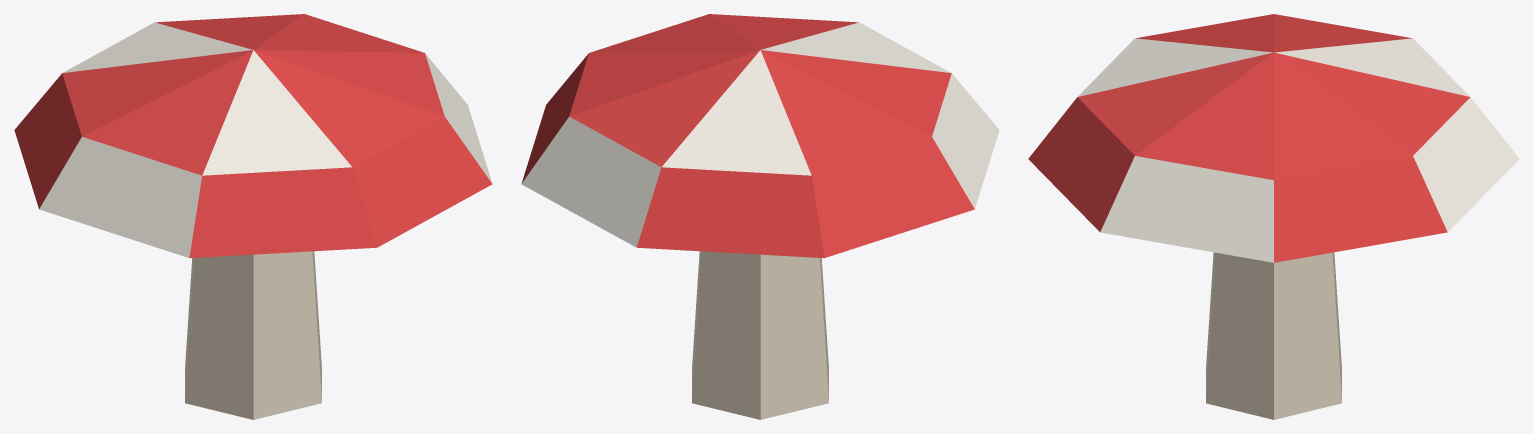
Rendered from mushroom_red.glb.
3 views of the same model, side by side, from view 1: azimuth 30°, elevation 25°; view 2: azimuth 150°, elevation 25°; view 3: azimuth 270°, elevation 25° (orthographic).
Visible parts, largest first — view 1: mushroom_red; view 2: mushroom_red; view 3: mushroom_red.
Boxes of the visible parts, box(x1,y1,x2,y2) form: mushroom_red: box(14, 14, 492, 419); mushroom_red: box(521, 14, 999, 419); mushroom_red: box(1028, 14, 1519, 419).
Size of the model in its own units: 0.18 by 0.135 by 0.18.
Materials: 1 (1 with a texture image).
